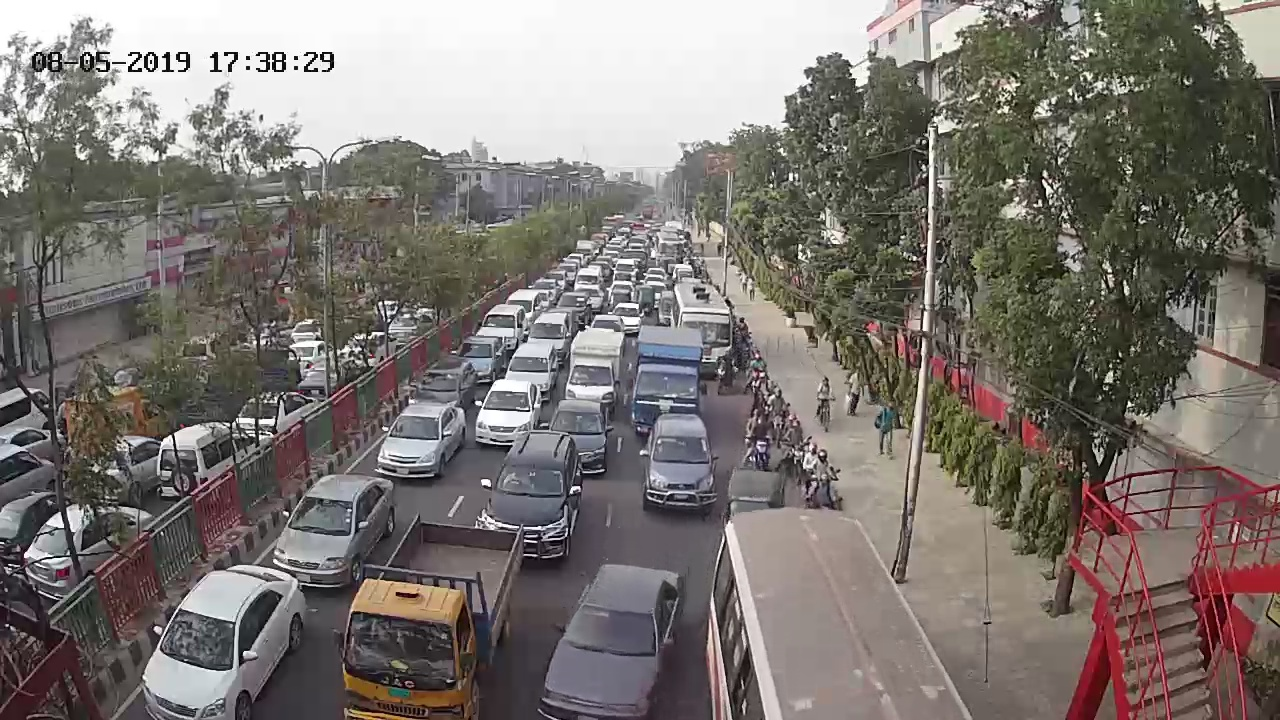fast_in: (713, 512, 976, 720), (353, 490, 515, 720), (538, 544, 692, 720), (140, 557, 303, 720), (481, 429, 585, 570), (275, 463, 394, 585), (370, 391, 466, 485), (636, 411, 715, 517), (630, 317, 707, 420), (671, 279, 735, 362), (554, 394, 615, 481), (565, 322, 623, 409), (473, 375, 540, 449), (417, 347, 477, 413), (726, 463, 785, 525), (504, 339, 557, 398), (795, 452, 844, 503), (452, 331, 498, 379), (532, 308, 576, 354), (480, 304, 523, 349), (743, 411, 776, 467), (504, 286, 547, 327), (784, 417, 812, 467), (746, 373, 775, 416), (609, 299, 646, 332), (654, 229, 685, 268), (571, 280, 605, 311), (560, 291, 591, 323), (594, 310, 627, 340), (746, 349, 773, 384), (531, 276, 560, 303), (621, 247, 651, 273), (767, 384, 788, 420), (574, 266, 604, 291), (632, 284, 656, 315), (614, 258, 642, 284), (736, 322, 757, 355), (609, 280, 638, 301), (671, 263, 695, 287), (542, 270, 568, 291), (643, 270, 665, 294), (608, 290, 632, 311), (588, 257, 612, 278), (574, 238, 596, 260), (630, 234, 652, 256), (557, 259, 578, 282), (588, 230, 608, 248), (564, 250, 585, 267), (600, 246, 625, 260)
fast_out: (19, 496, 151, 598), (151, 411, 261, 503), (57, 387, 166, 470), (230, 378, 321, 449), (2, 487, 80, 560), (84, 434, 164, 503), (2, 443, 63, 508), (93, 352, 159, 405), (298, 346, 360, 402), (1, 387, 61, 441), (3, 428, 78, 463), (176, 326, 228, 375), (381, 301, 438, 345), (348, 332, 396, 376), (281, 338, 328, 376), (287, 312, 333, 348), (363, 289, 406, 324), (245, 314, 283, 352)
slow_in: (810, 378, 842, 429)
